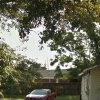Tree: (26, 5, 100, 68)
